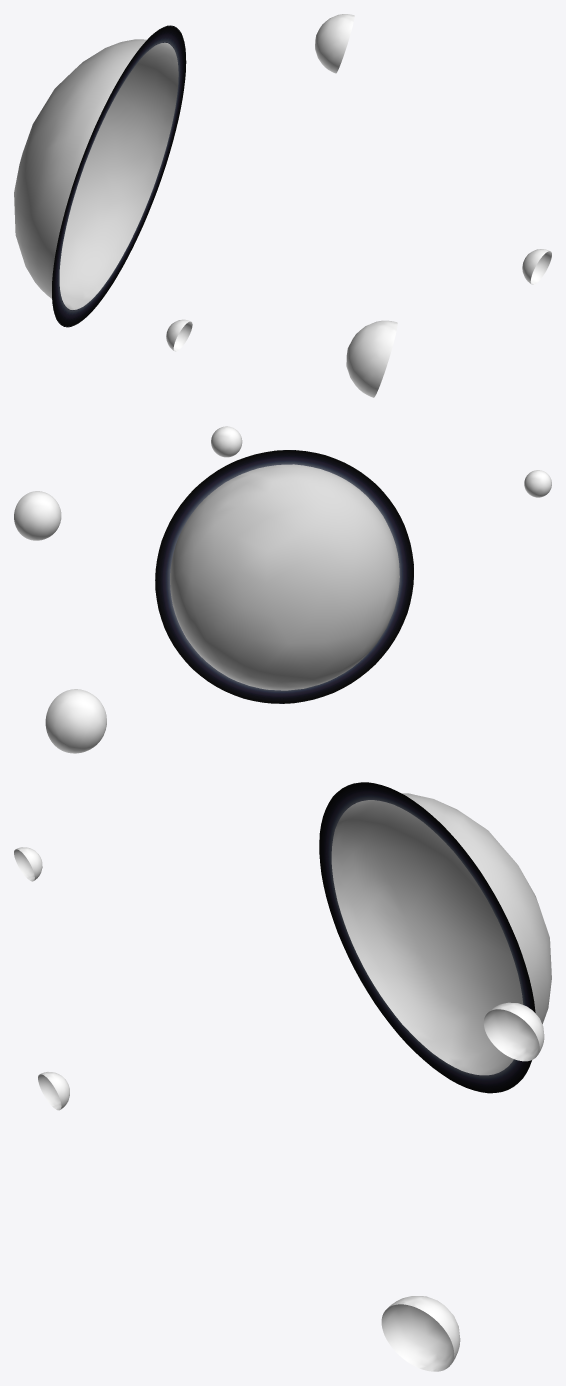
The model's file is env_space_yavin_01_pre.glb.
3 renders of one model, top to bottom at view 1: azimuth 30°, elevation 25°; view 2: azimuth 150°, elevation 25°; view 3: azimuth 270°, elevation 25°, orthographic. The views are drawn at different scales.
Parts seen in each view (by area): view 1: polySurface1 (×5); view 2: polySurface1 (×5); view 3: polySurface1 (×5).
Boxes of the visible parts, x1,y1,x2,y2 form: polySurface1 (×5): (14, 14, 551, 397); polySurface1 (×5): (14, 426, 551, 753); polySurface1 (×5): (14, 782, 551, 1371).
Size of the model in its own units: 415 by 397 by 427.
3 materials, 1 textured.
